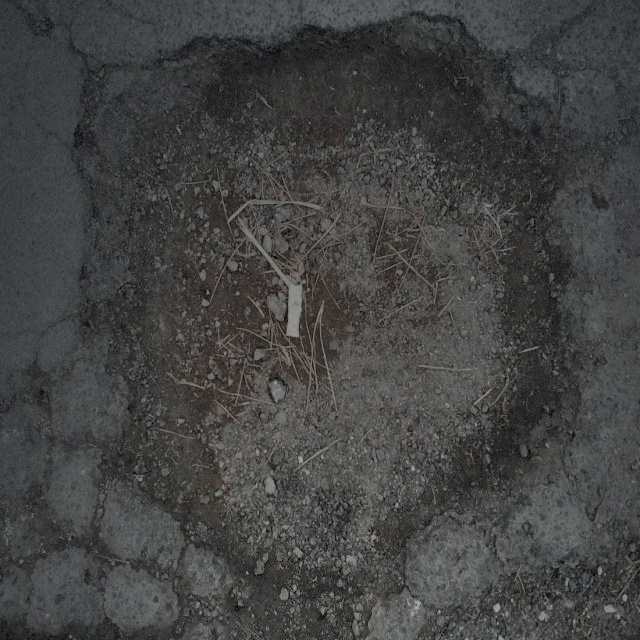pothole: (74, 13, 586, 546)
